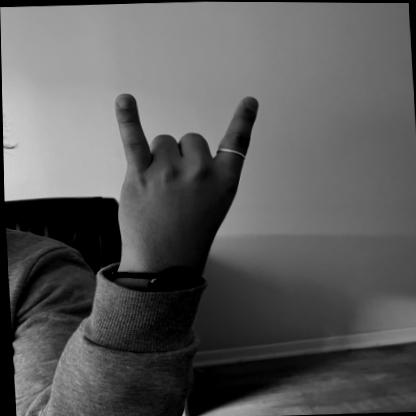U: (92, 83, 276, 277)
